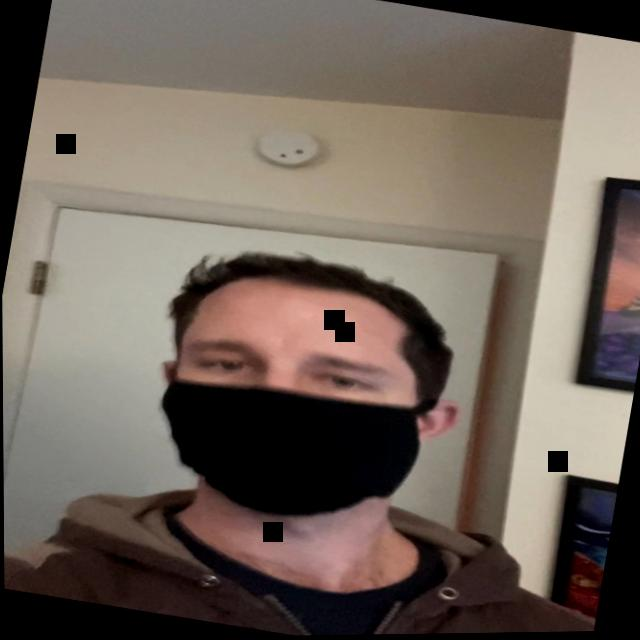Mask: (122, 239, 480, 572)
